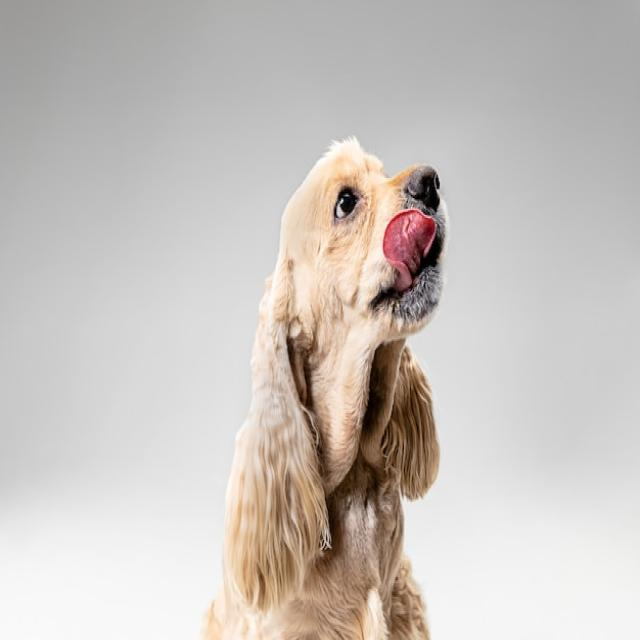Dog: (202, 134, 448, 640)
